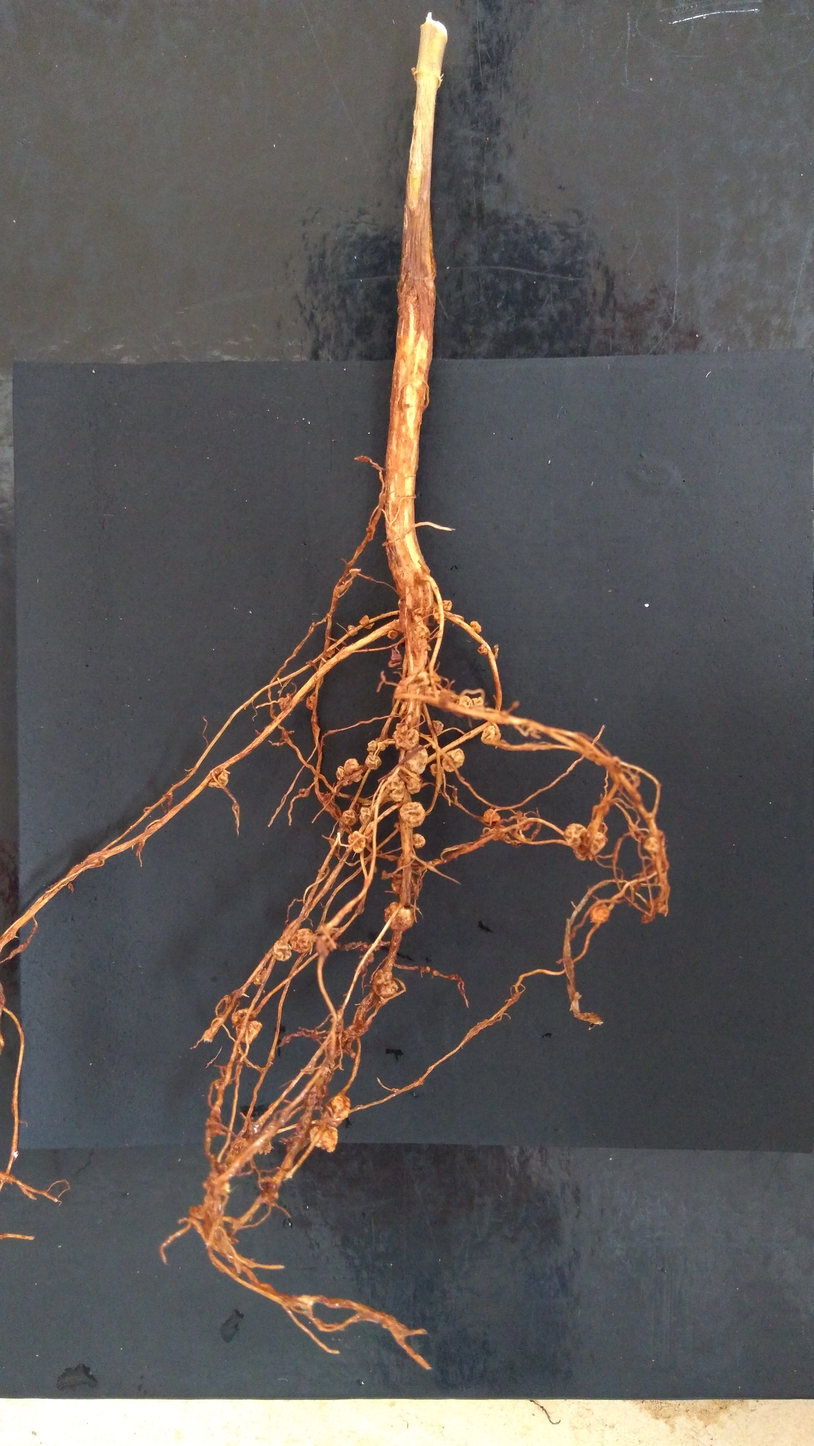nodule: (383, 901, 415, 930), (310, 1124, 338, 1153), (371, 968, 398, 998), (323, 1094, 351, 1121), (235, 1019, 263, 1045), (398, 801, 426, 827), (403, 745, 428, 774), (393, 723, 419, 750), (390, 872, 418, 896), (303, 1085, 328, 1111), (564, 823, 590, 848), (290, 928, 314, 953), (204, 1173, 231, 1194), (442, 748, 465, 772), (585, 830, 607, 855), (572, 830, 589, 861), (206, 766, 229, 788), (207, 1106, 223, 1137), (253, 1129, 272, 1154), (272, 939, 292, 962), (343, 758, 362, 782), (589, 901, 610, 922), (481, 723, 501, 745), (347, 830, 366, 853), (260, 1179, 279, 1202), (319, 1057, 336, 1081), (342, 1023, 367, 1039), (225, 1138, 248, 1155), (395, 677, 410, 702), (389, 780, 405, 803), (602, 757, 622, 775), (469, 697, 485, 719), (231, 1008, 254, 1023), (648, 897, 668, 914), (585, 821, 608, 835), (85, 852, 105, 868), (398, 700, 412, 722), (365, 752, 382, 770), (341, 809, 359, 826), (406, 775, 422, 794), (489, 824, 506, 841), (363, 820, 375, 844), (358, 806, 371, 827), (385, 773, 401, 790), (642, 837, 660, 852), (278, 693, 292, 712), (316, 937, 329, 957), (428, 719, 444, 735), (246, 1119, 262, 1135), (388, 647, 403, 664), (483, 809, 501, 823), (254, 967, 267, 986), (416, 623, 431, 639), (458, 694, 473, 710), (189, 1204, 205, 1219), (338, 1036, 352, 1053), (360, 615, 375, 630), (429, 763, 444, 778), (214, 1162, 231, 1175), (410, 607, 424, 622), (416, 670, 430, 685), (418, 637, 430, 654), (424, 686, 441, 698), (433, 611, 447, 625), (428, 670, 441, 685), (413, 832, 425, 848), (375, 736, 388, 750), (335, 765, 347, 780), (362, 951, 374, 966), (330, 1014, 345, 1026), (518, 820, 534, 831), (469, 621, 482, 634), (366, 524, 375, 542), (397, 598, 407, 614), (440, 599, 452, 612), (347, 624, 358, 637), (355, 966, 368, 977), (387, 629, 399, 640), (348, 568, 361, 578), (391, 619, 401, 632), (397, 853, 405, 869), (367, 740, 377, 752), (452, 614, 465, 623), (477, 645, 488, 655), (324, 647, 334, 658), (571, 990, 582, 1000), (306, 696, 314, 709), (342, 776, 352, 786), (297, 788, 308, 797), (223, 994, 232, 1004), (380, 869, 388, 880), (338, 584, 347, 593), (394, 822, 401, 830), (425, 966, 431, 973), (350, 1051, 356, 1058), (516, 810, 522, 816), (363, 944, 368, 949)
